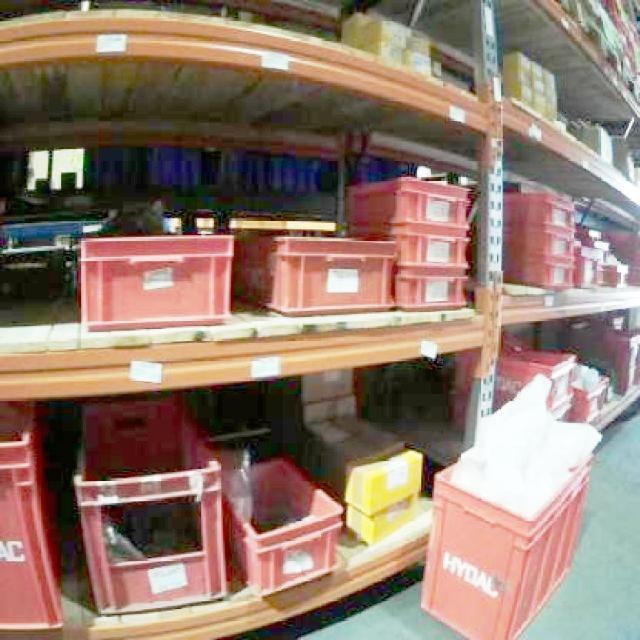pallet: (0, 137, 638, 342), (72, 455, 228, 615), (0, 398, 63, 638)
